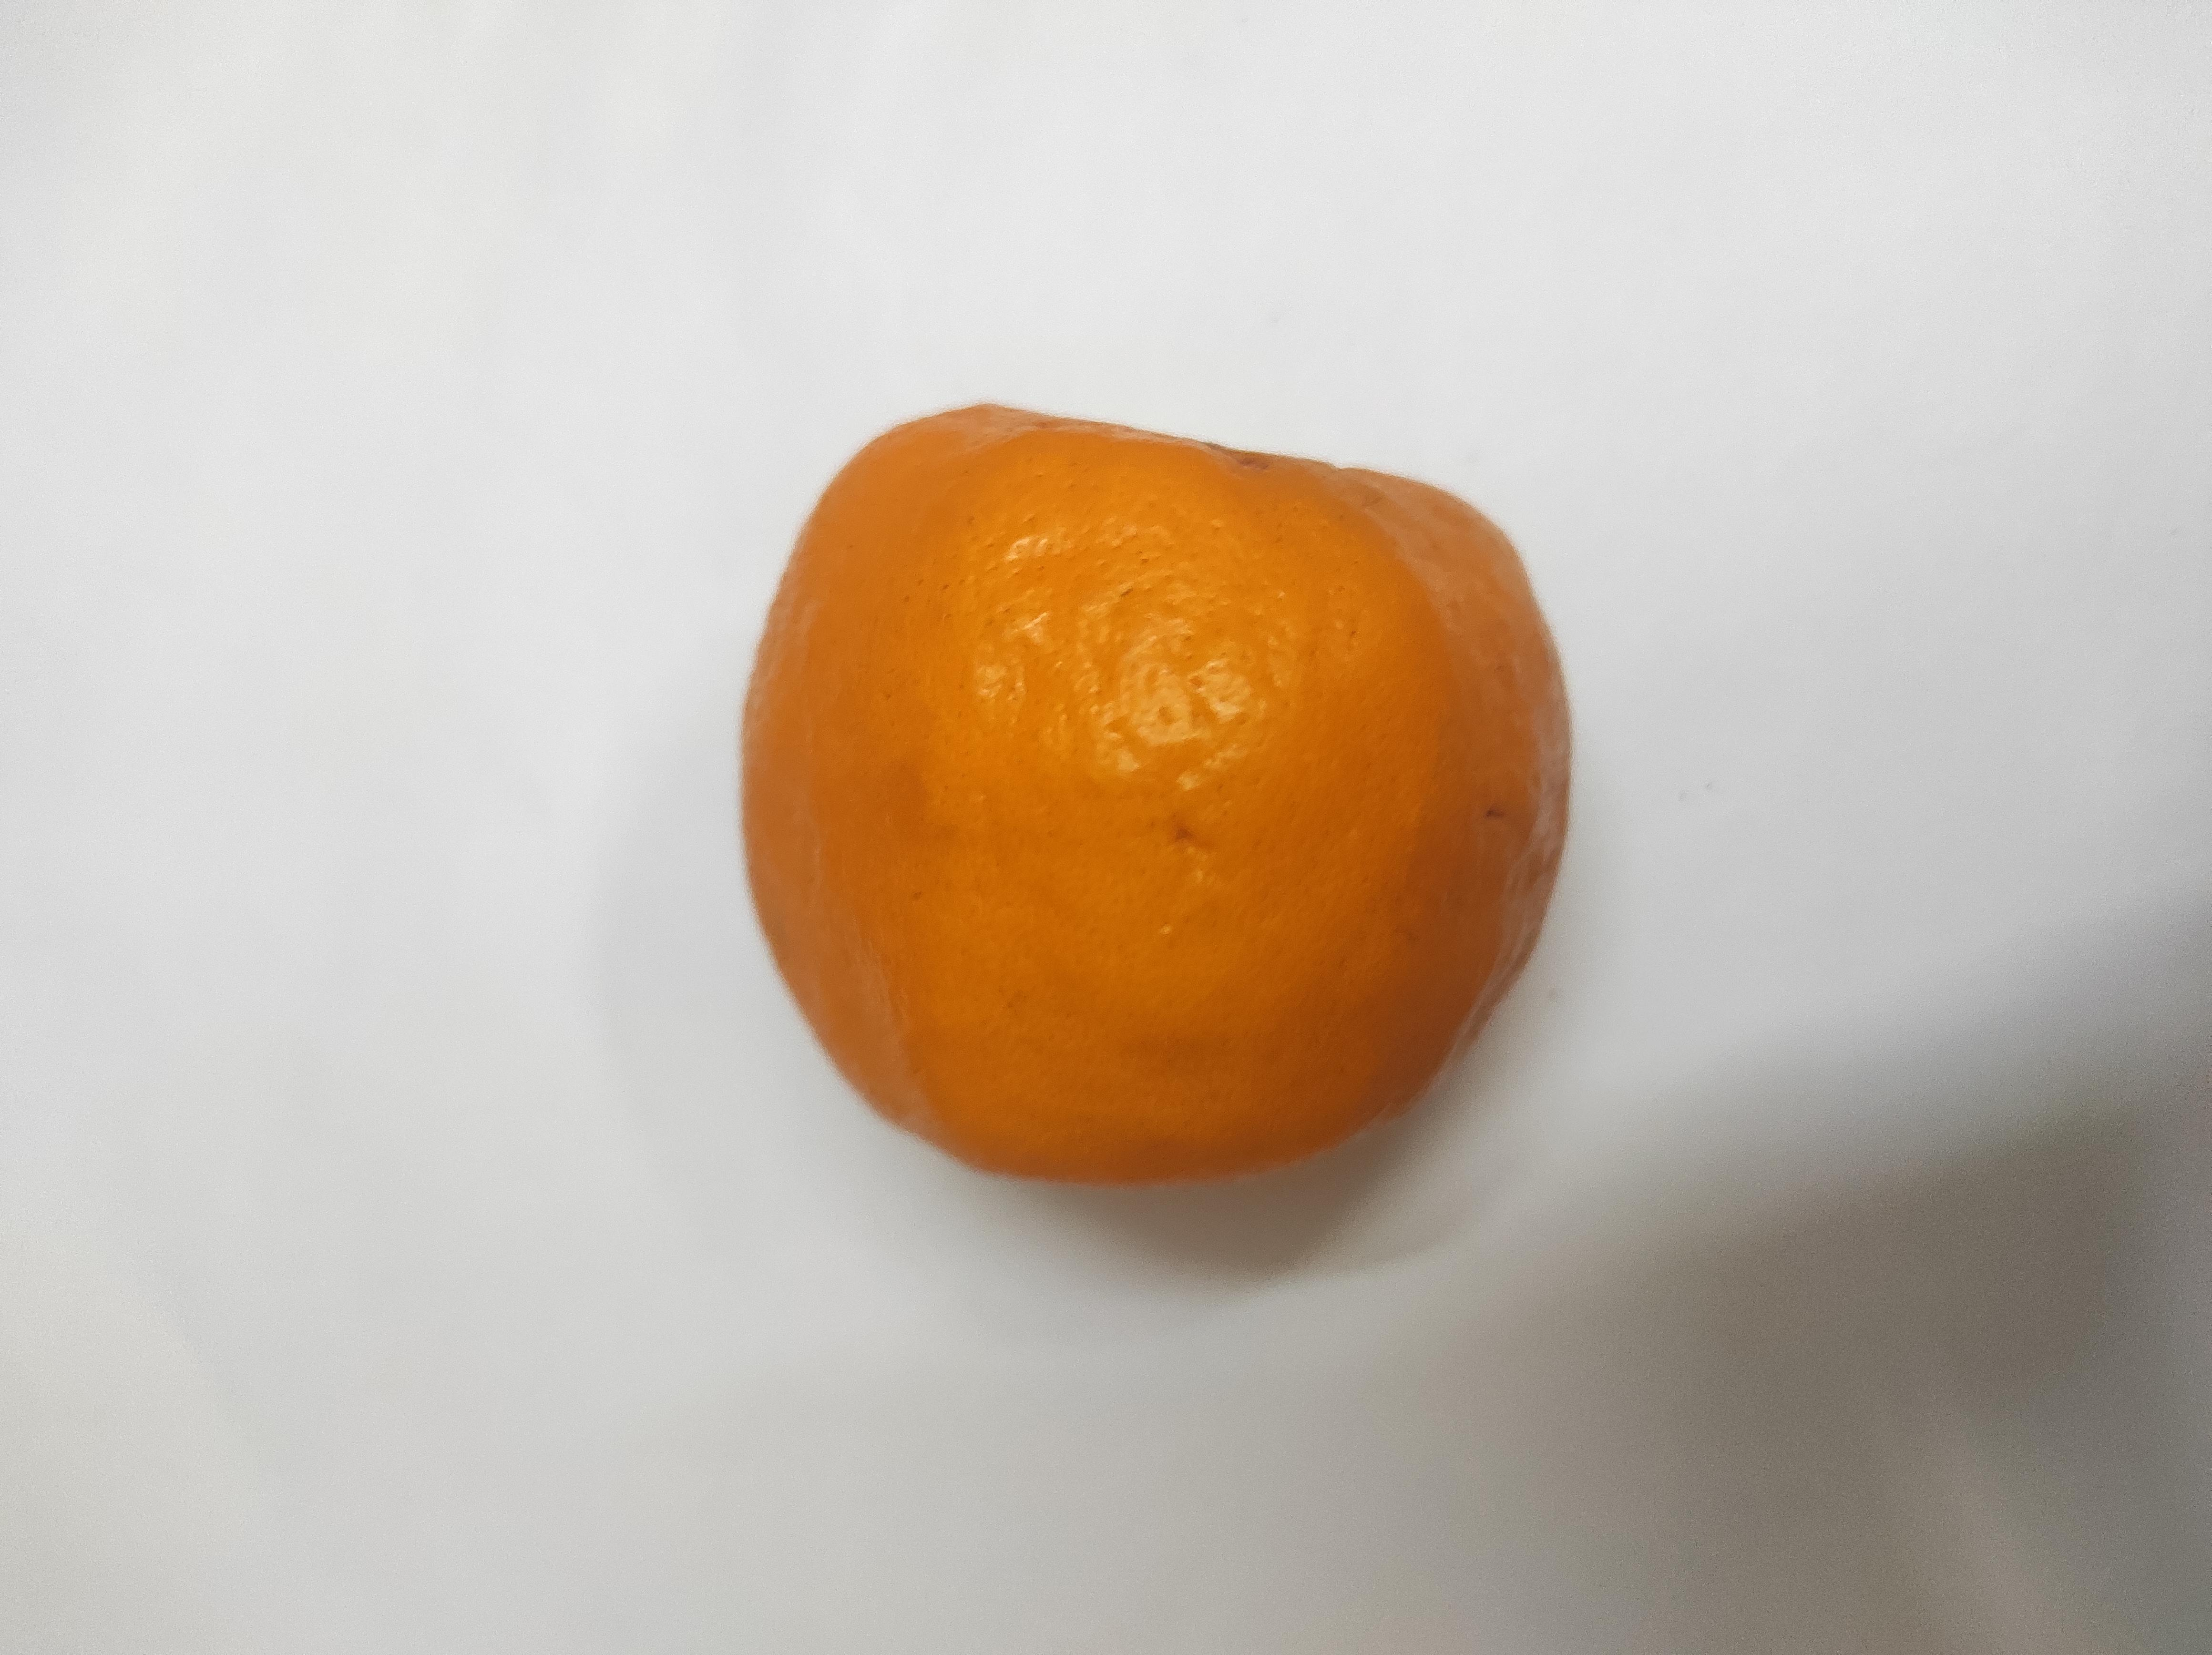Ripe: (631, 553, 1675, 1180)
